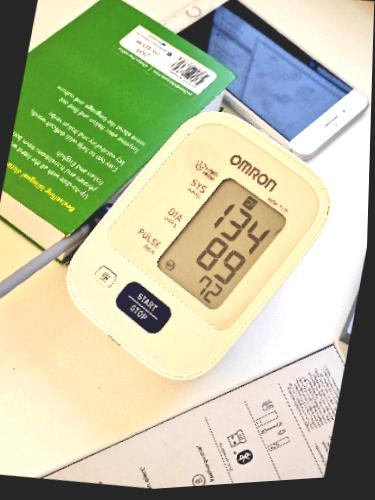bpm: (151, 170, 289, 314)
